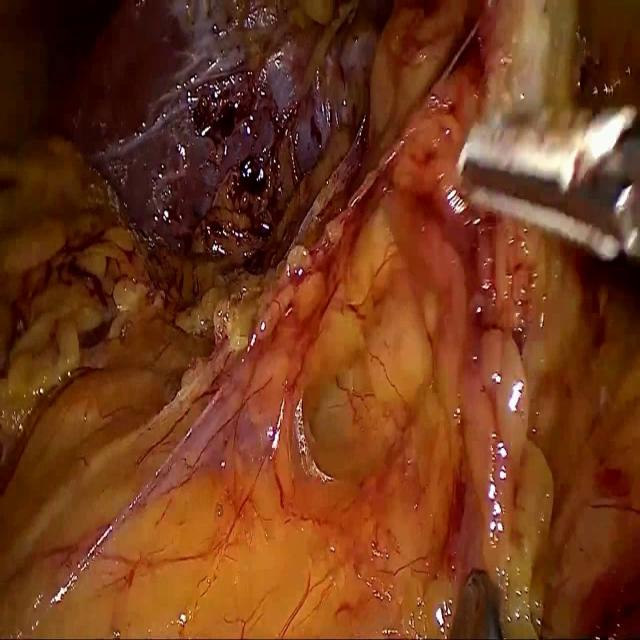surgical-tool: (454, 103, 640, 261)
